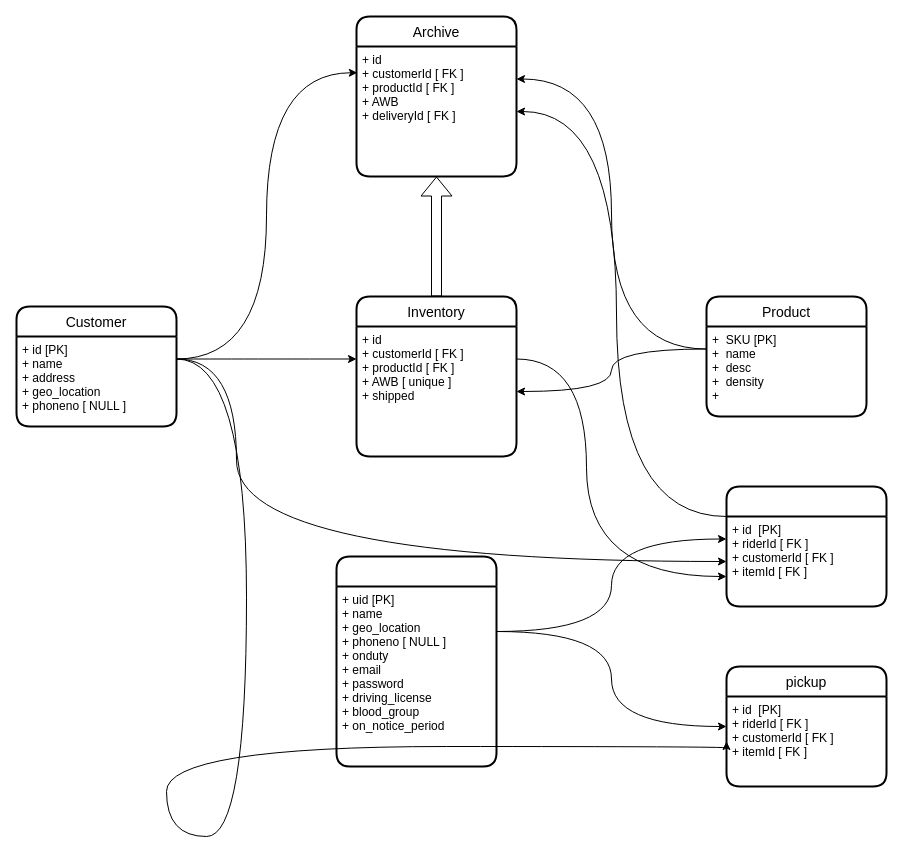
Some shapes in this 903 by 853 pixel diagram are drawn without their labels. Each missing label, with the box of its shape:
Delivery: (725, 485, 887, 607)
Rider: (335, 555, 497, 767)
